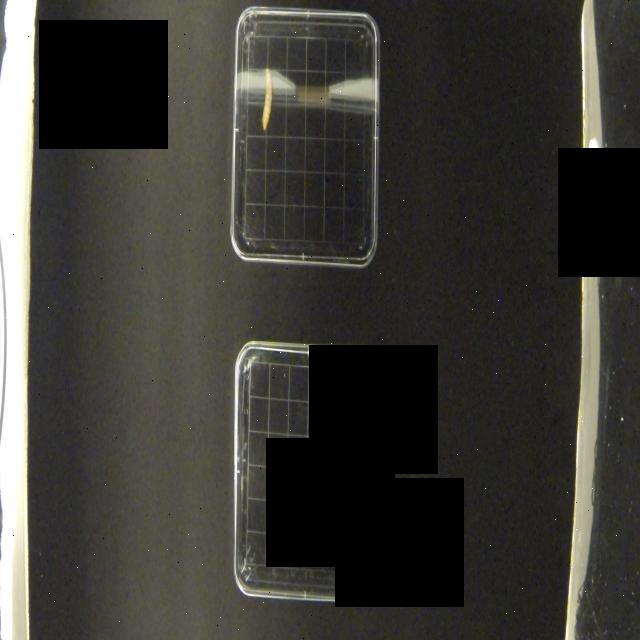larva: (356, 532, 374, 576), (262, 67, 272, 132)
